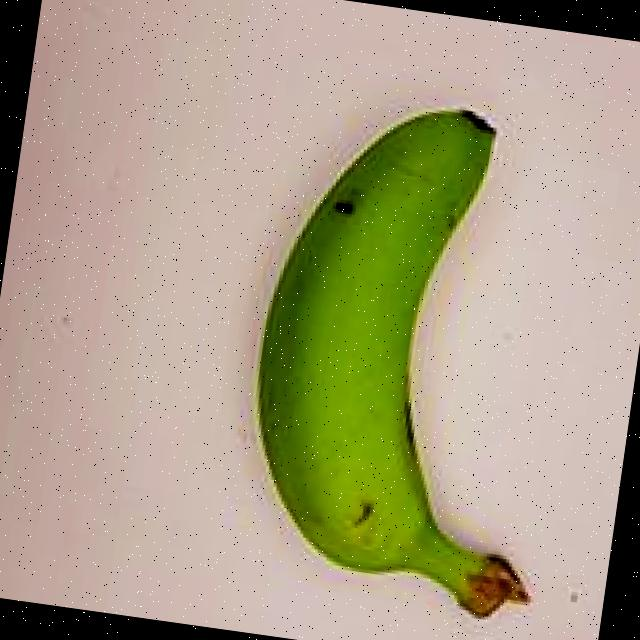Unripe: (186, 47, 619, 640)
